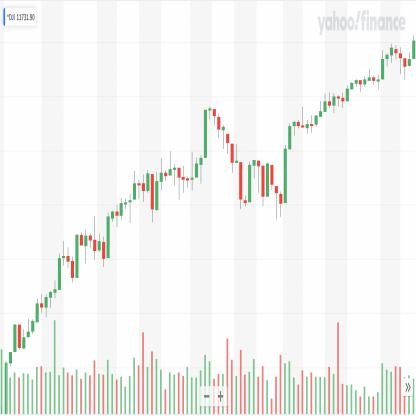Bullish: Morning Star Doji: (238, 157, 252, 211)
